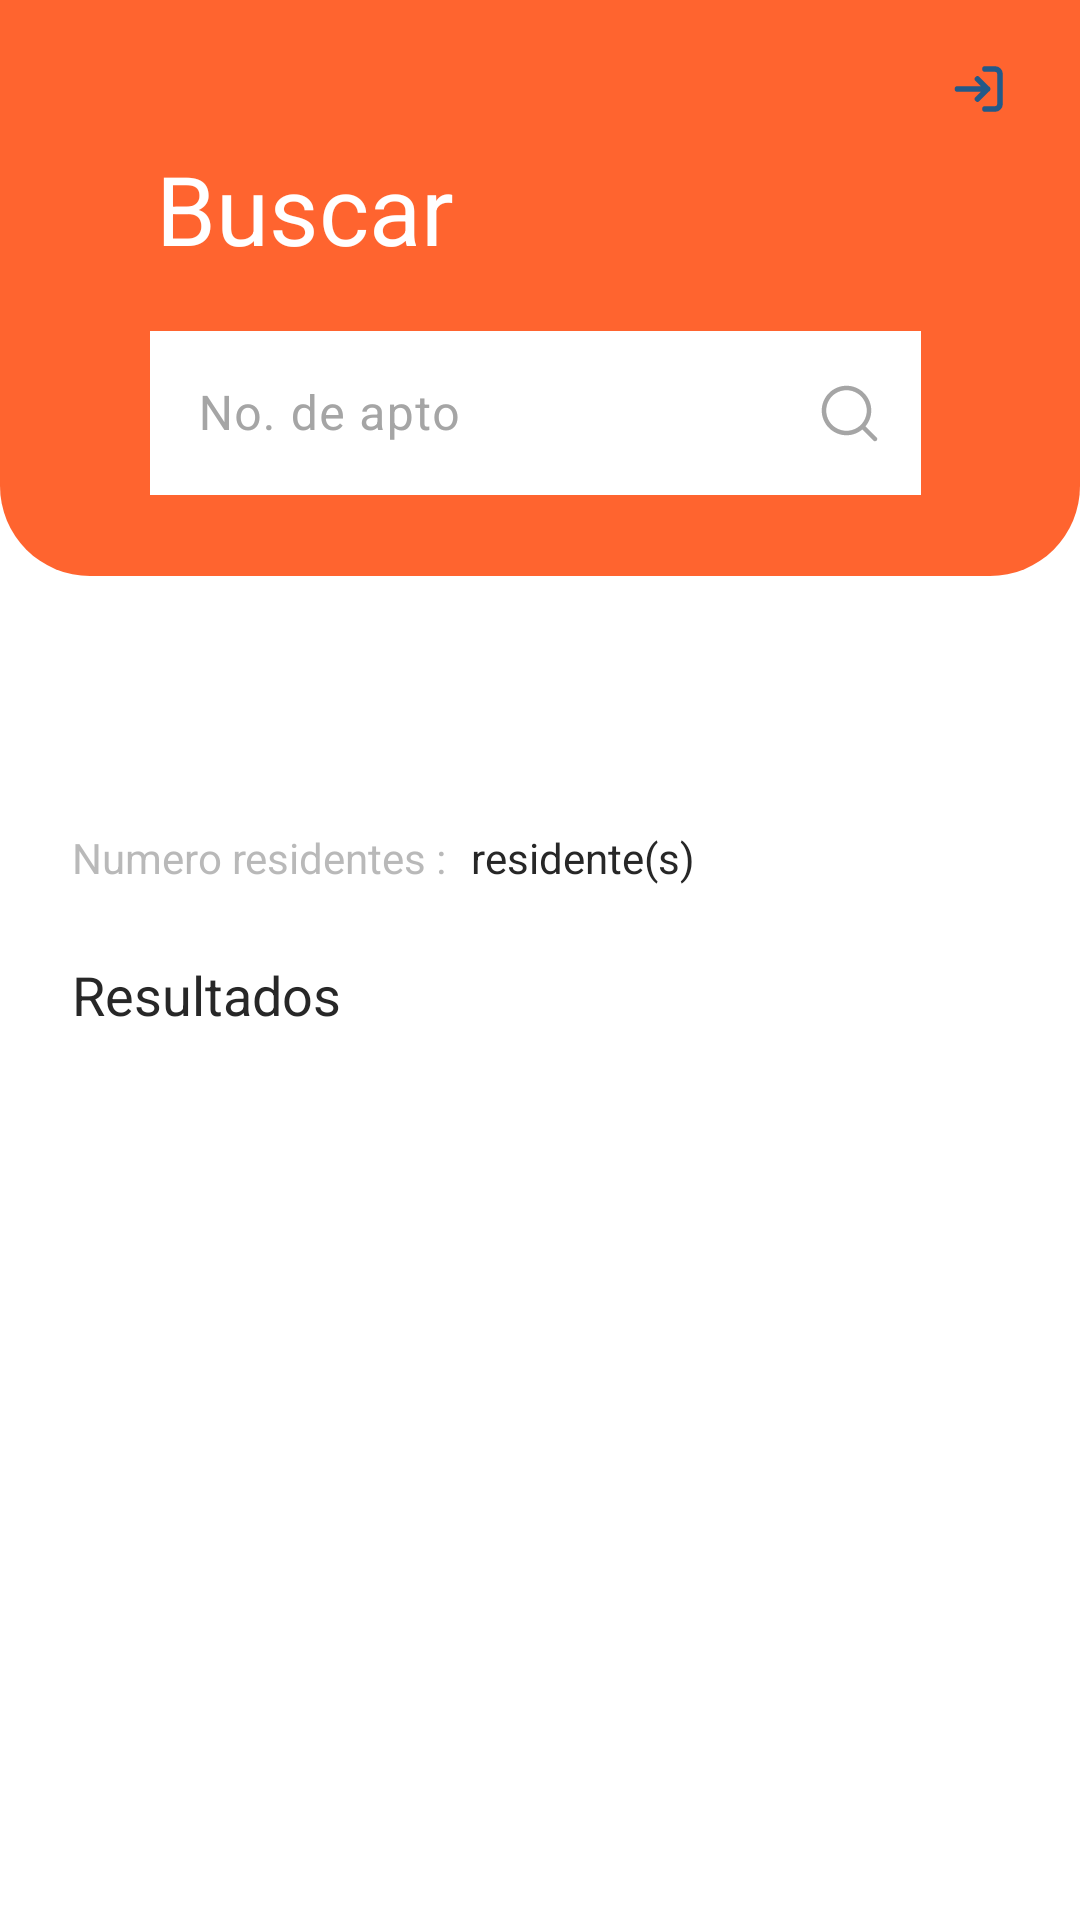

Point at icon controls on the screen. Image size 1080 × 1920, points as (x=x, y=y).
login: (x=978, y=89)
